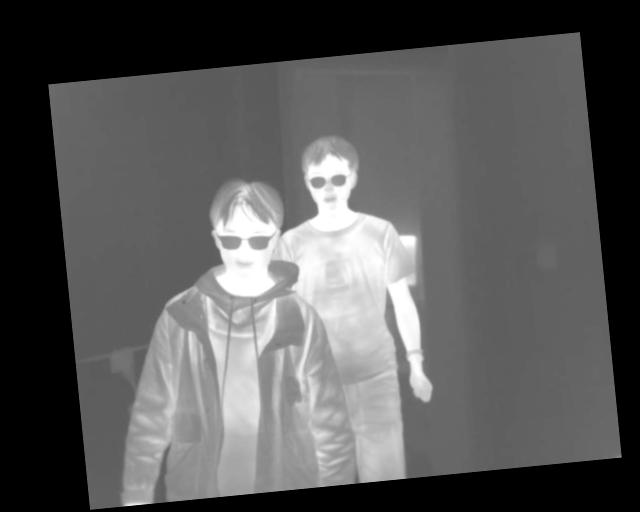face: (206, 173, 291, 281), (297, 132, 363, 216)
